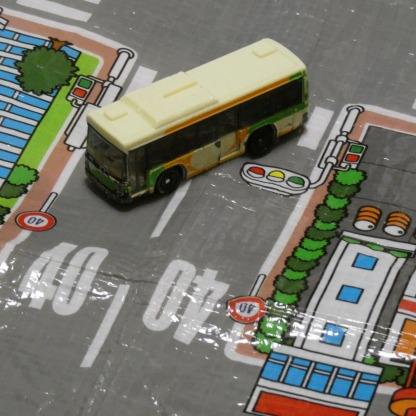car: (86, 35, 309, 205)
